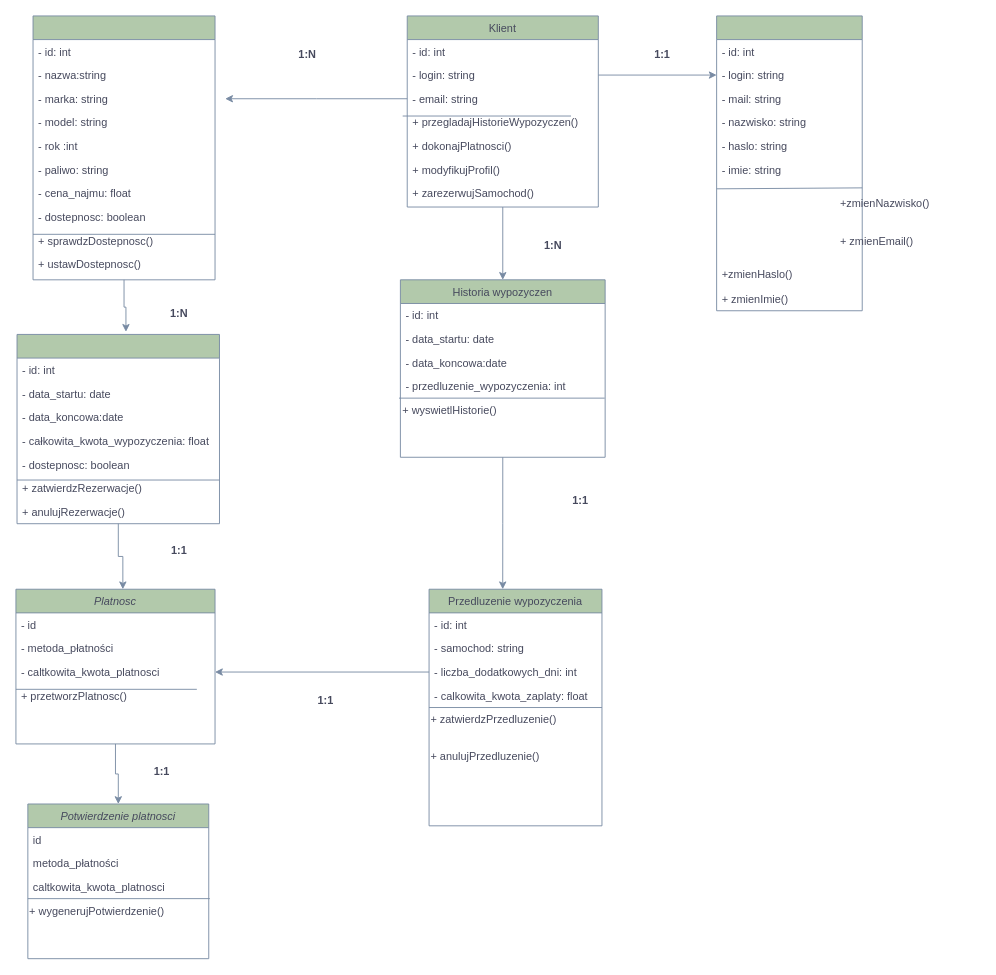
This 996x975 diagram has some shape labels left out. Each missing label, with the box of its shape:
Profil: (716, 15, 862, 311)
Rezerwacja: (16, 334, 219, 524)
Samochod: (32, 15, 215, 280)
